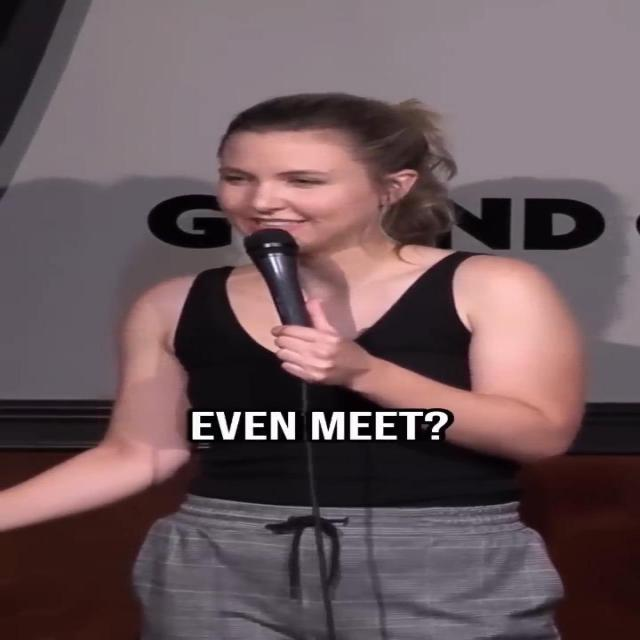NO-Mask: (212, 135, 394, 257)
